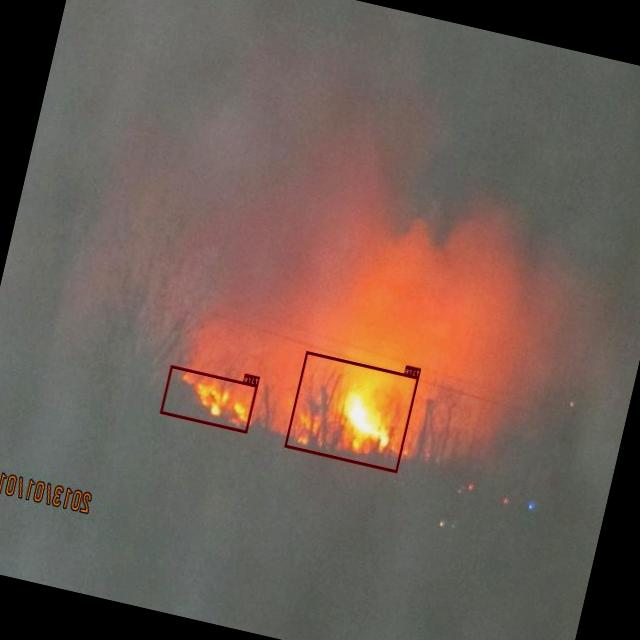fire: (284, 351, 418, 472), (160, 364, 258, 432)
